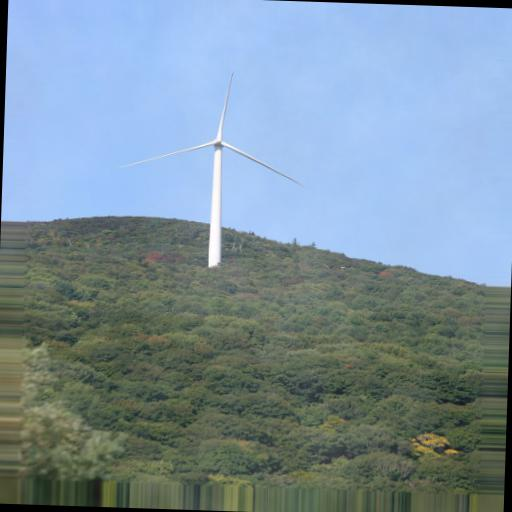wind turbine: (122, 72, 305, 268)
